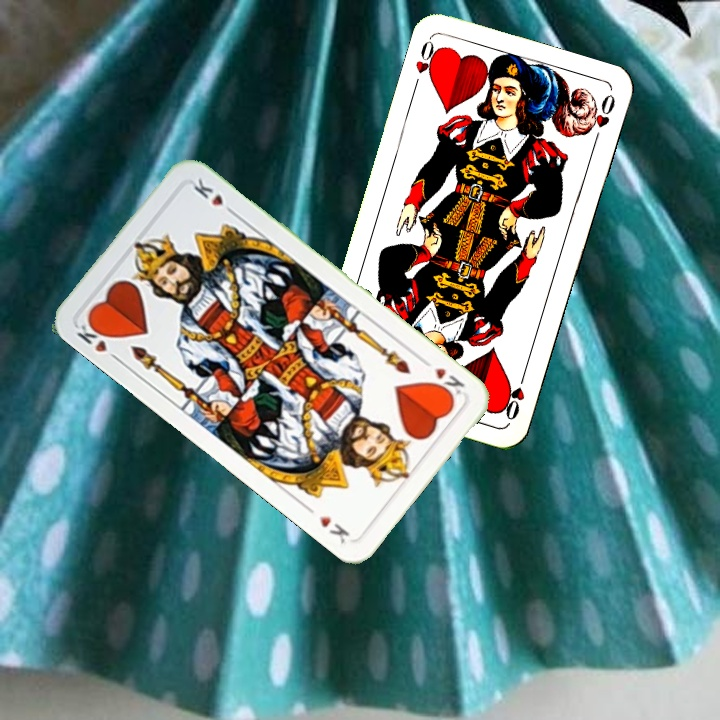HK: (72, 315, 123, 365), (417, 354, 468, 401)
HO: (409, 35, 443, 93), (500, 366, 529, 423)
